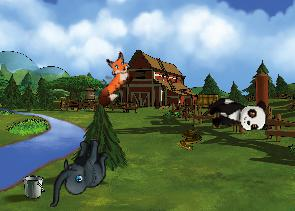elephant: (49, 137, 108, 209)
fox: (81, 48, 142, 109)
panda: (207, 97, 268, 132)
